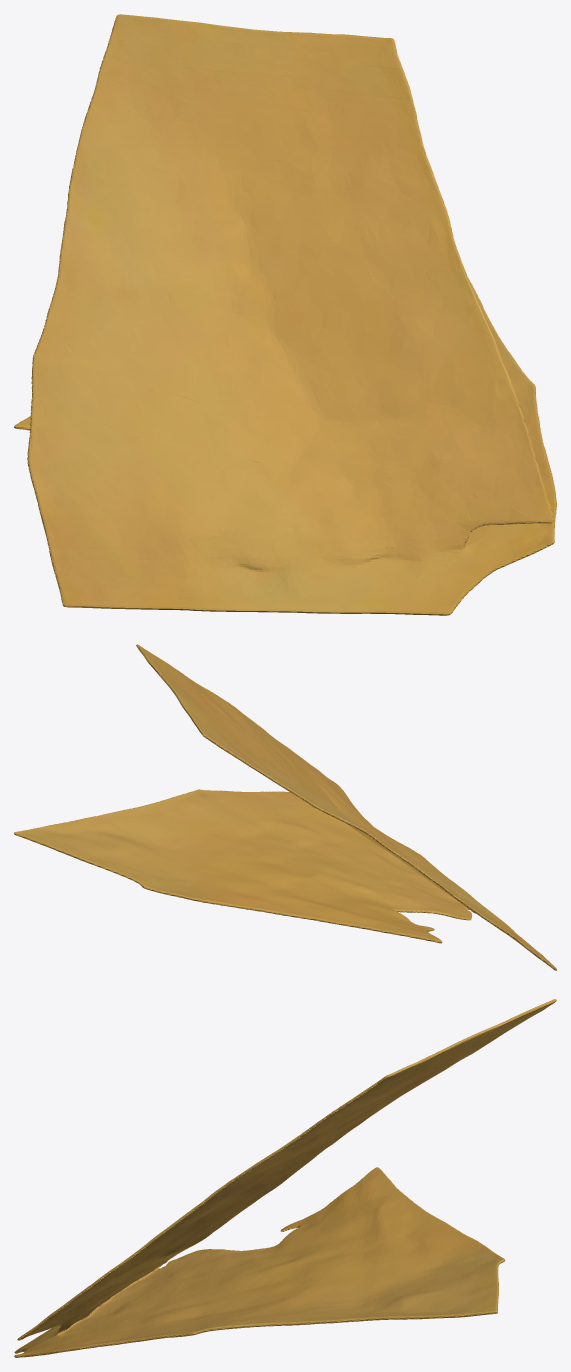
File: tree_spire.glb
3 renders of one model, top to bottom at view 1: azimuth 30°, elevation 25°; view 2: azimuth 150°, elevation 25°; view 3: azimuth 270°, elevation 25°, orthographic. The views are drawn at different scales.
Visible parts, largest first — view 1: tree_spire; view 2: tree_spire; view 3: tree_spire.
Part boxes in pixels (x1,y1,x2,y2): tree_spire: [14, 14, 556, 615]; tree_spire: [14, 644, 556, 970]; tree_spire: [14, 999, 556, 1357].
Size of the model in its own units: 1.96 by 1.37 by 1.96.
1 material, 1 textured.
